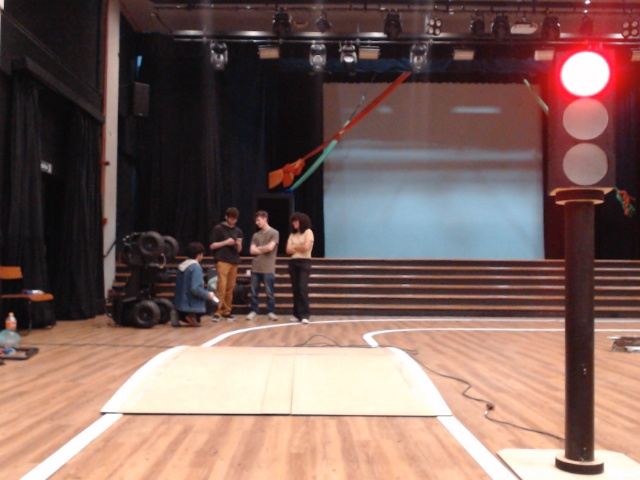SEMAFORO: (533, 35, 637, 220)
